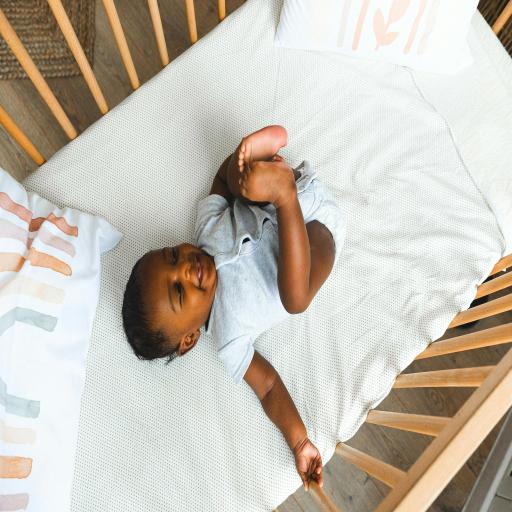baby: (123, 126, 345, 490)
crib: (336, 350, 511, 511)
